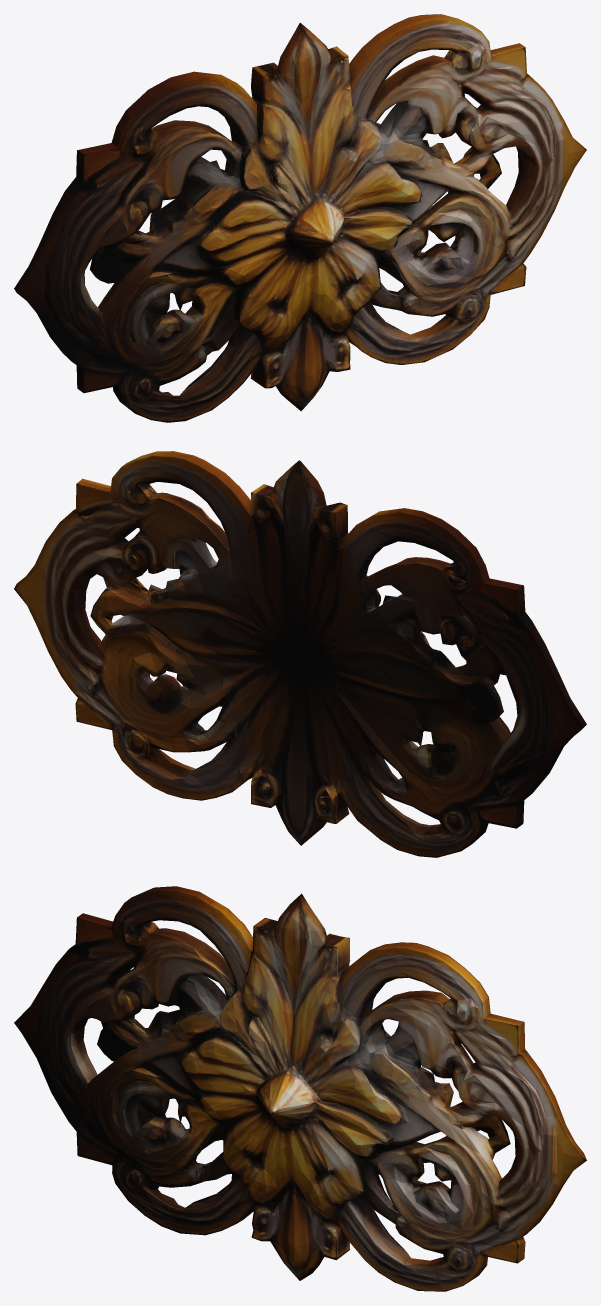
The model's file is wooden-ornamental-carving-art-deco.jpeg.glb.
3 renders of one model, top to bottom at view 1: azimuth 30°, elevation 25°; view 2: azimuth 150°, elevation 25°; view 3: azimuth 330°, elevation 25°, orthographic.
Visible parts, largest first — view 1: world; view 2: world; view 3: world.
Boxes of the visible parts, <box> form: world: <box>14,14,586,422</box>; world: <box>14,451,586,857</box>; world: <box>14,886,586,1291</box>.
Bounding box in the file's own units: 1 × 0.6512 × 0.1168.
1 material, 1 textured.
